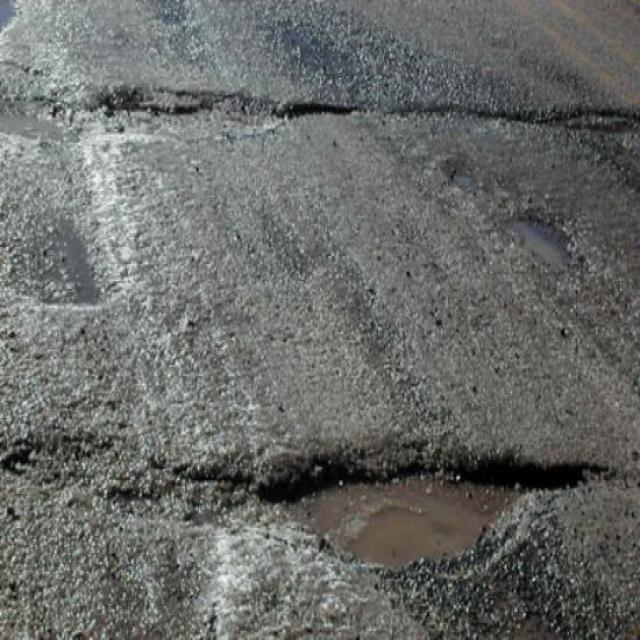pothole: (122, 432, 616, 570)
